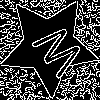W: (24, 20, 87, 86)
